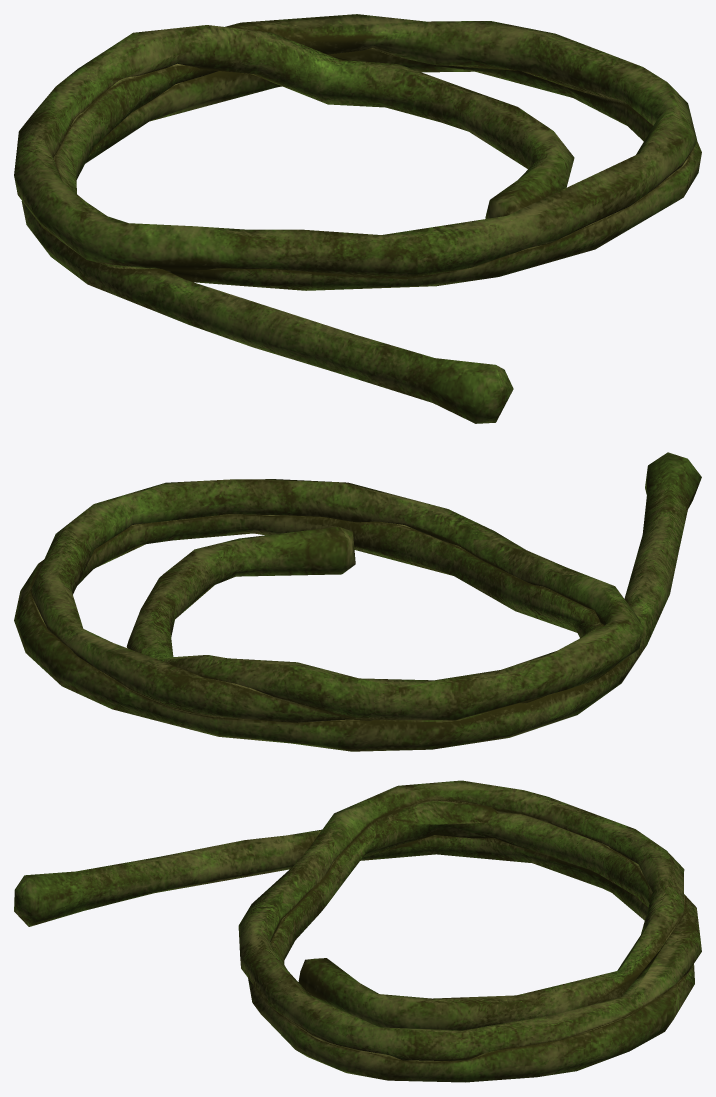
The model's file is Rope.fbx.
The picture shows the model from 3 angles, top to bottom: view 1: azimuth 30°, elevation 25°; view 2: azimuth 150°, elevation 25°; view 3: azimuth 270°, elevation 25°; orthographic projection. The views are drawn at different scales.
Visible parts, largest first — view 1: RopeL; view 2: RopeL; view 3: RopeL.
Part boxes in pixels (x1,y1,x2,y2): RopeL: [14, 14, 701, 423]; RopeL: [14, 452, 701, 751]; RopeL: [14, 780, 701, 1082].
Size of the model in its own units: 29.61 by 4.46 by 34.31.
